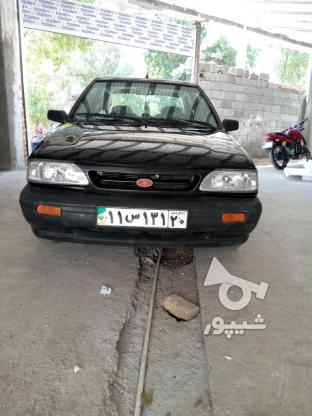car: (96, 207, 187, 229)
